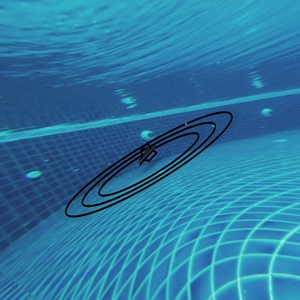circle: (64, 106, 252, 235)
